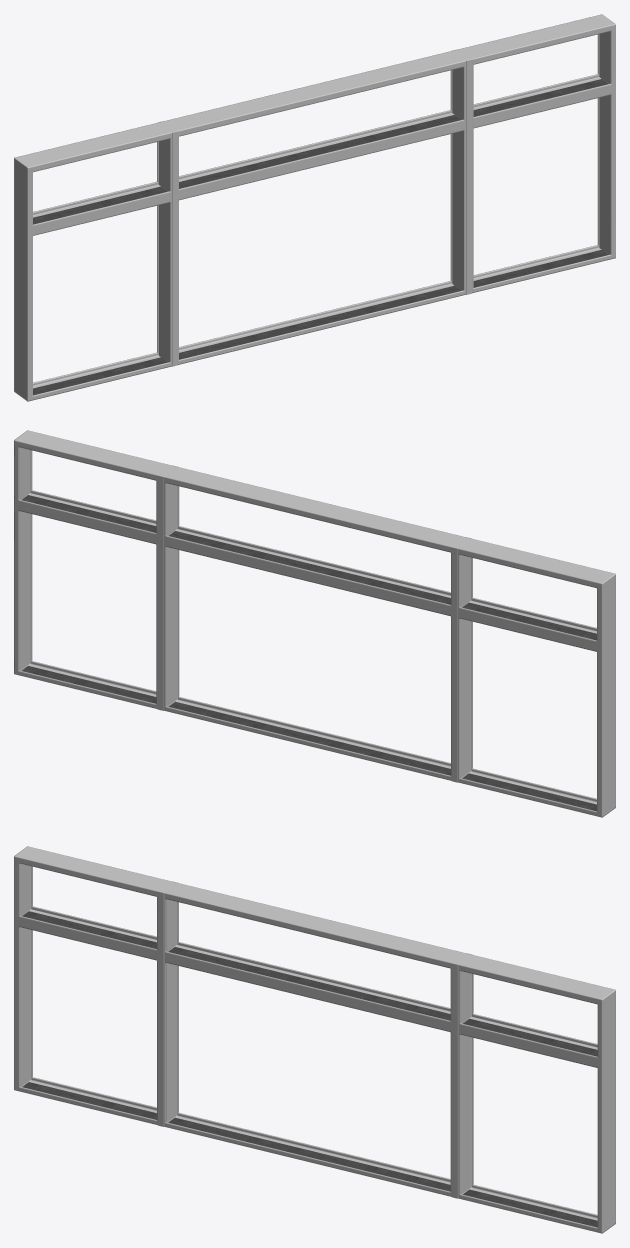
File: Windows_04_Frame_Snaps014.fbx
3 renders of one model, top to bottom at view 1: azimuth 30°, elevation 25°; view 2: azimuth 150°, elevation 25°; view 3: azimuth 330°, elevation 25°, orthographic.
Visible parts, largest first — view 1: Windows_04_Frame_LOD00; view 2: Windows_04_Frame_LOD00; view 3: Windows_04_Frame_LOD00.
Part boxes in pixels (<box>): Windows_04_Frame_LOD00: <box>14,14,615,401</box>; Windows_04_Frame_LOD00: <box>14,430,615,817</box>; Windows_04_Frame_LOD00: <box>14,846,615,1233</box>.
Size of what is drawn, in the model's own units: 500 by 190 by 21.
